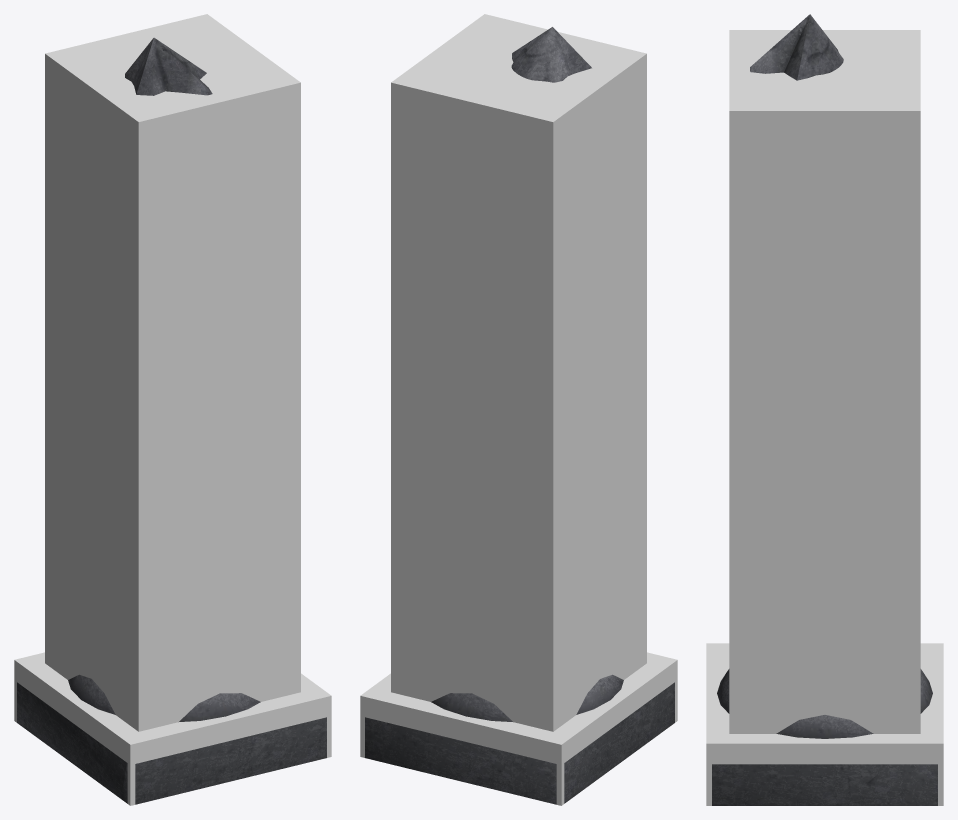
File: column_ruin.webp.glb
3 views of the same model, side by side, from view 1: azimuth 30°, elevation 25°; view 2: azimuth 150°, elevation 25°; view 3: azimuth 270°, elevation 25° (orthographic). The views are drawn at different scales.
Parts seen in each view (by area): view 1: COL, FRAC_3, FRAC_4, FRAC_2, column_ruin_lod0; view 2: COL, FRAC_4, FRAC_3, column_ruin_lod0, FRAC_2; view 3: COL, FRAC_3, column_ruin_lod0, FRAC_2.
Boxes of the visible parts, x1=… form: COL: x1=14, y1=14, x2=331, y2=805; FRAC_3: x1=121, y1=693, x2=326, y2=804; FRAC_4: x1=17, y1=674, x2=126, y2=798; FRAC_2: x1=125, y1=37, x2=212, y2=95; column_ruin_lod0: x1=71, y1=39, x2=252, y2=721; COL: x1=360, y1=14, x2=677, y2=805; FRAC_4: x1=428, y1=674, x2=673, y2=804; FRAC_3: x1=365, y1=682, x2=674, y2=774; column_ruin_lod0: x1=442, y1=27, x2=620, y2=720; FRAC_2: x1=512, y1=27, x2=591, y2=81; COL: x1=706, y1=30, x2=943, y2=805; FRAC_3: x1=712, y1=669, x2=937, y2=805; column_ruin_lod0: x1=719, y1=14, x2=930, y2=738; FRAC_2: x1=750, y1=15, x2=818, y2=80.
Size of the model in its own units: 1.24 by 4.2 by 1.24.
Materials: 1 (1 with a texture image).
